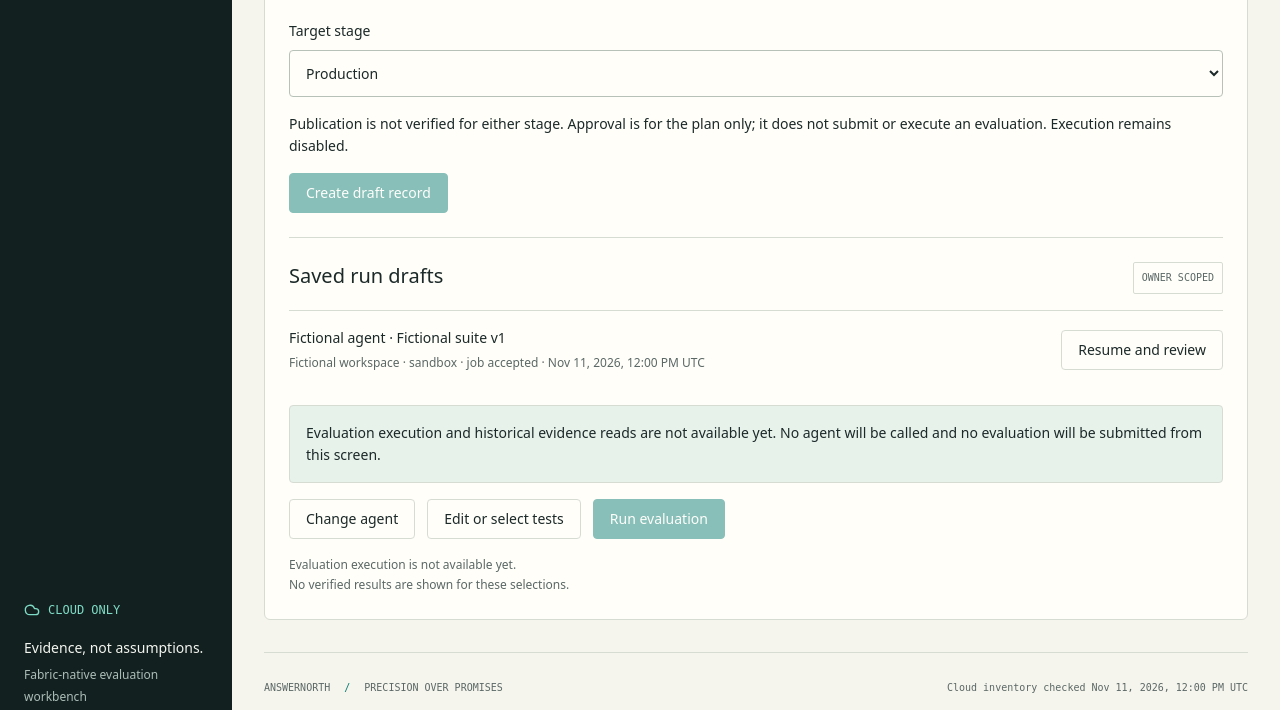
notebook job status › does not display mismatched run
The image size is (1280, 710).
(page scrolled)
Click the button "Resume and review" at (1142, 350), box [1061,330,1223,370]
(page scrolled)
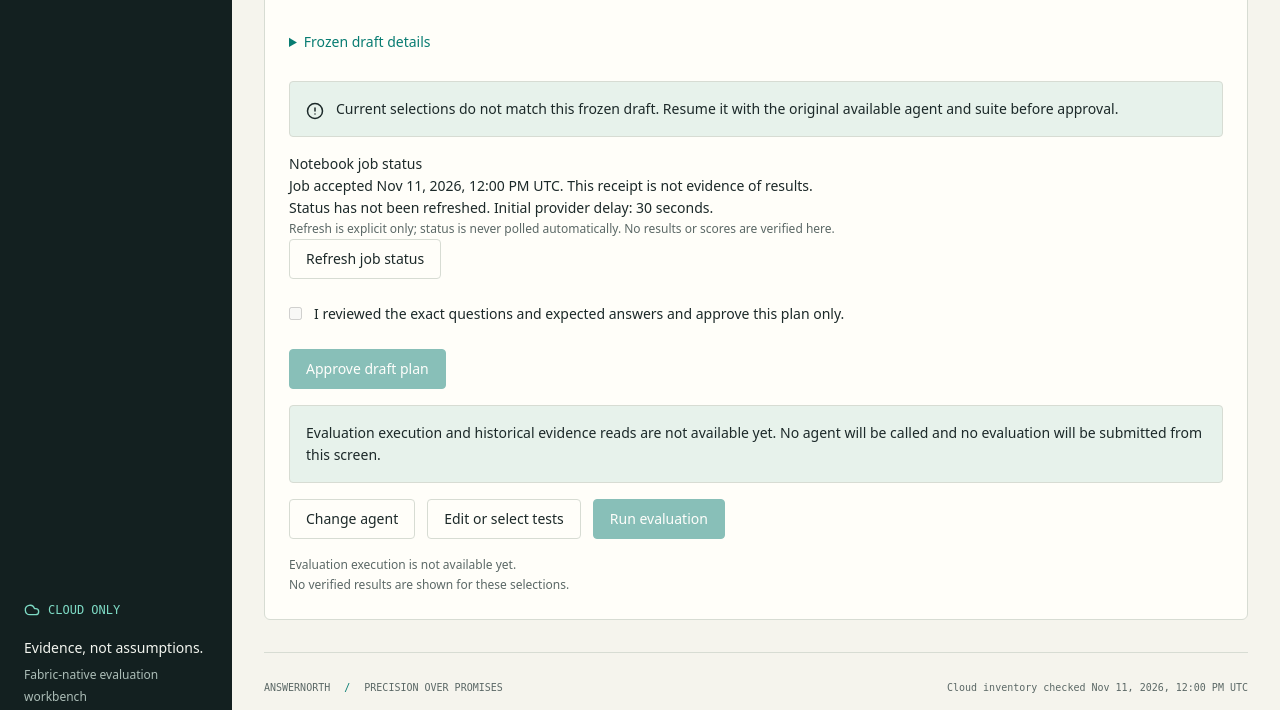
Click the button "Refresh job status" at (365, 259), box [289,239,441,279]
(page scrolled)
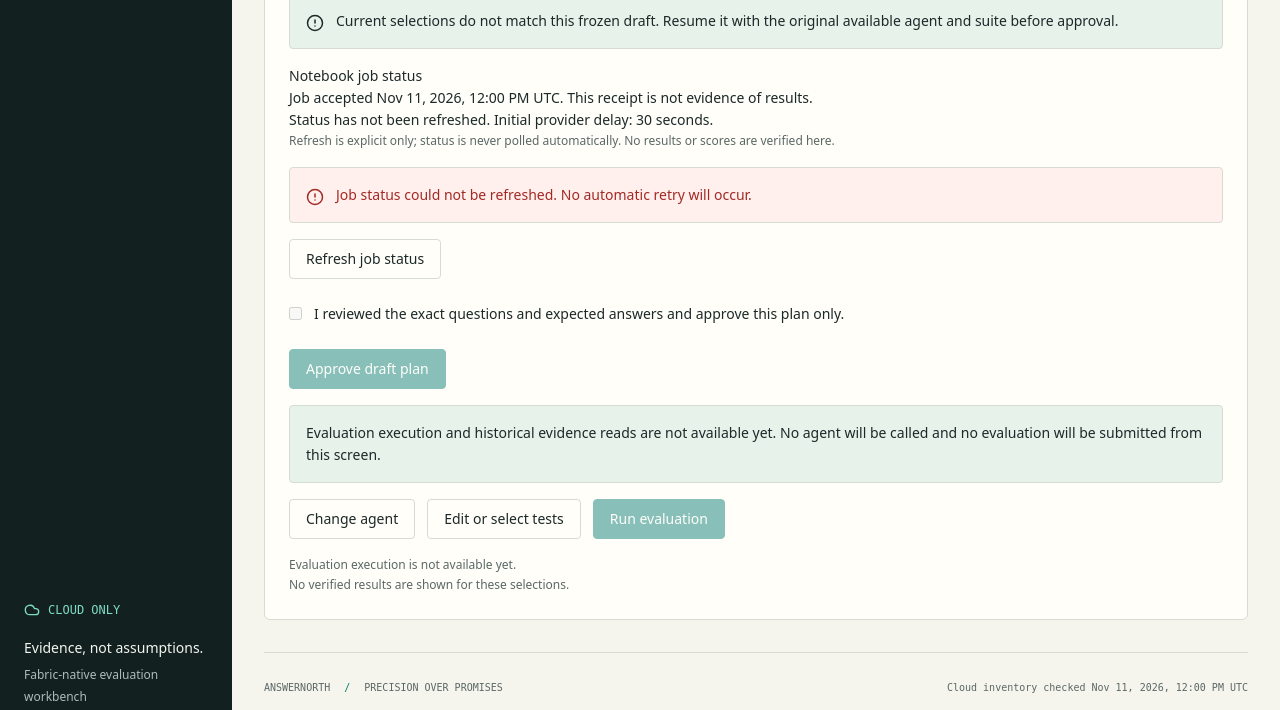
Check: the text "Job status could not be refreshed" is shown, box [336,185,752,204]
